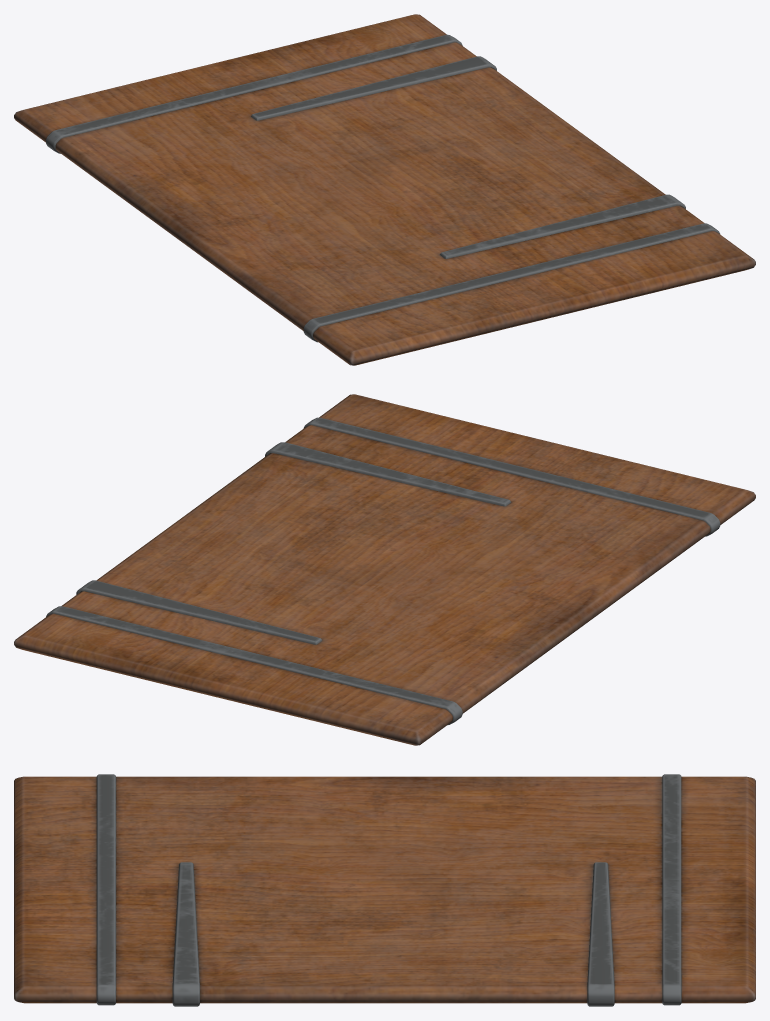
Rendered from SM_ChestLid.fbx.
3 renders of one model, top to bottom at view 1: azimuth 30°, elevation 25°; view 2: azimuth 150°, elevation 25°; view 3: azimuth 270°, elevation 25°, orthographic. The views are drawn at different scales.
Parts seen in each view (by area): view 1: SM_ChestLid_LOD0; view 2: SM_ChestLid_LOD0; view 3: SM_ChestLid_LOD0.
Boxes of the visible parts, x1=… form: SM_ChestLid_LOD0: x1=14, y1=14, x2=755, y2=365; SM_ChestLid_LOD0: x1=14, y1=394, x2=755, y2=745; SM_ChestLid_LOD0: x1=14, y1=774, x2=755, y2=1006.
Bounding box in the file's own units: 54.25 × 77.48 × 2.49.
1 material, 1 textured.
